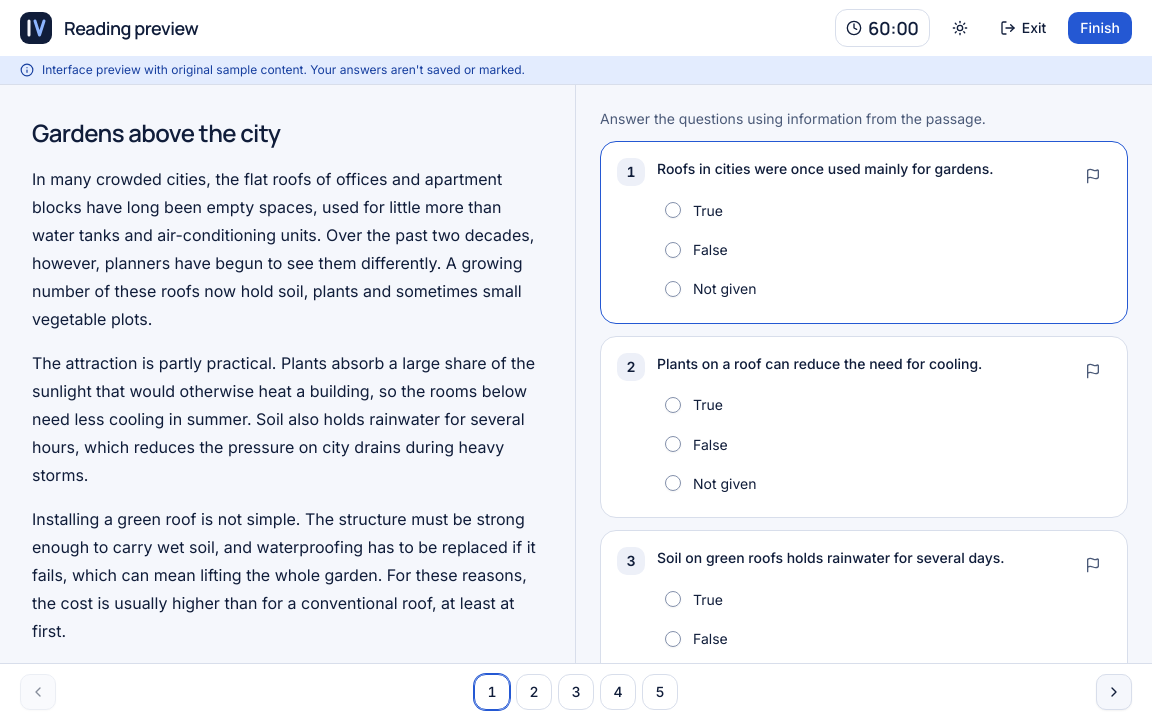
Test case: exam previews › says answers aren't saved, and finishes without any score
This screenshot has width=1152, height=720.
Expected: the text "aren't saved or marked" is shown, [42, 62, 525, 77]
Expected: the element showing "60:00" is shown, [835, 9, 930, 47]
Click the 2nd radio button named "False".
click(673, 250)  # box [665, 242, 681, 258]
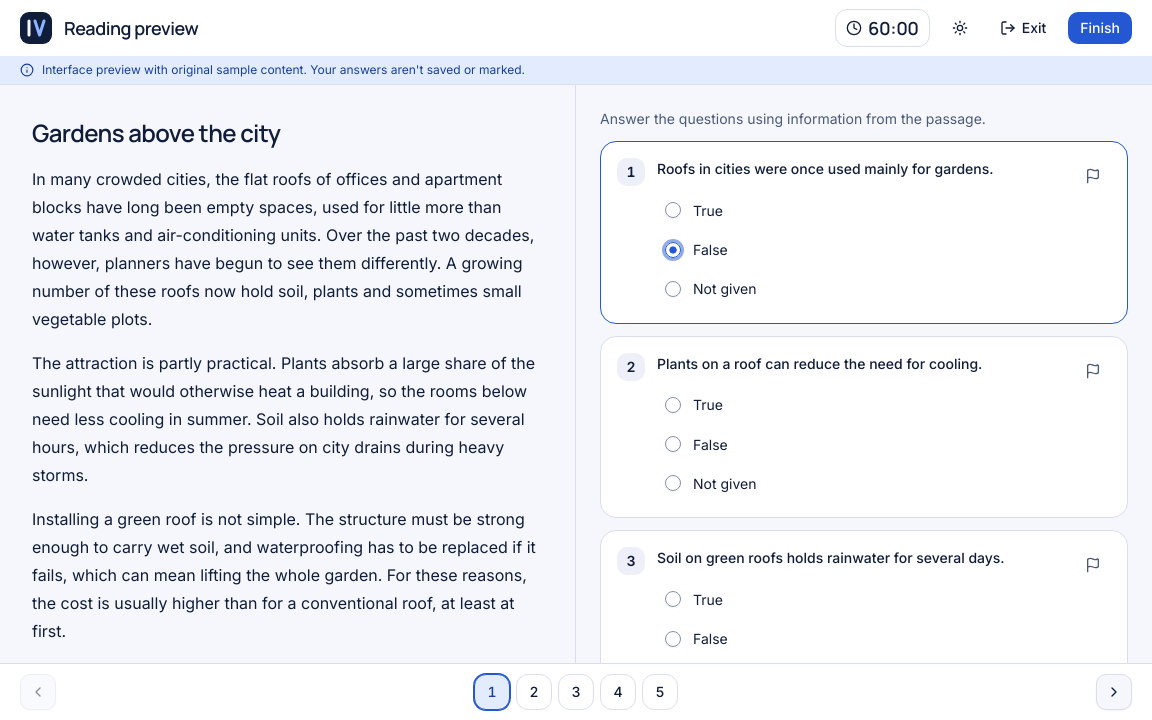
Click the button "Finish".
click(1100, 28)  # box [1068, 12, 1132, 44]
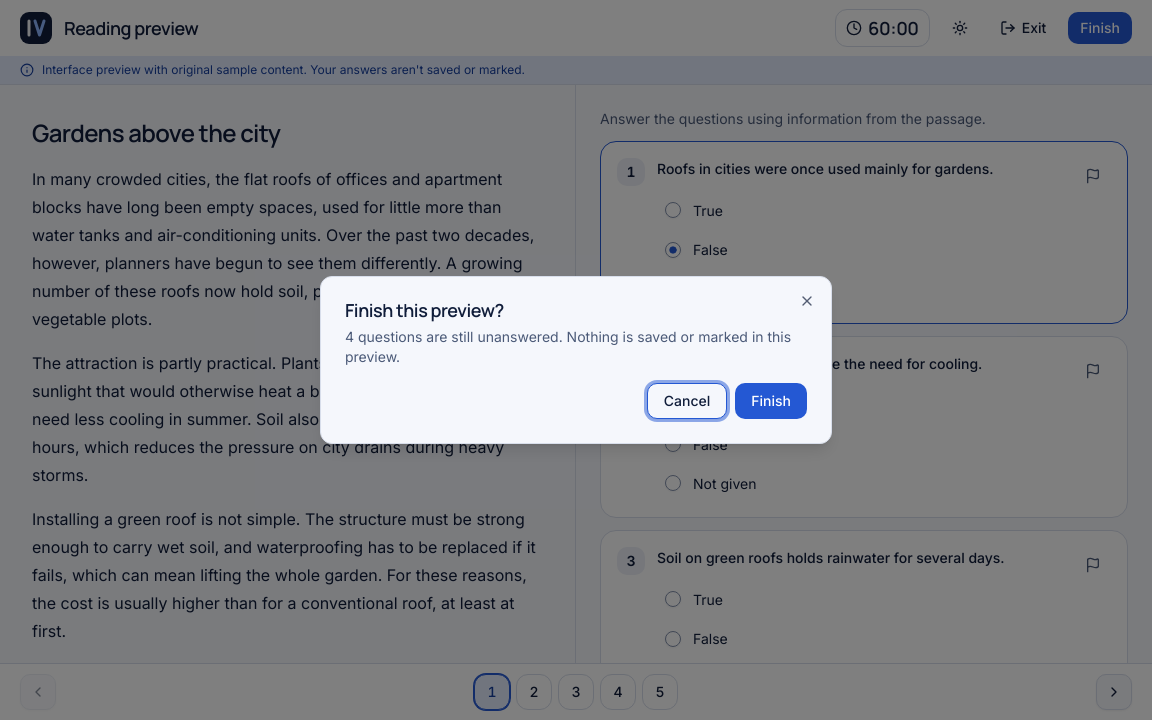
Result: the text "4 questions are still unanswered" is shown at [345, 328, 791, 365]
Click the button "Finish".
click(771, 401)  # box [735, 383, 807, 419]
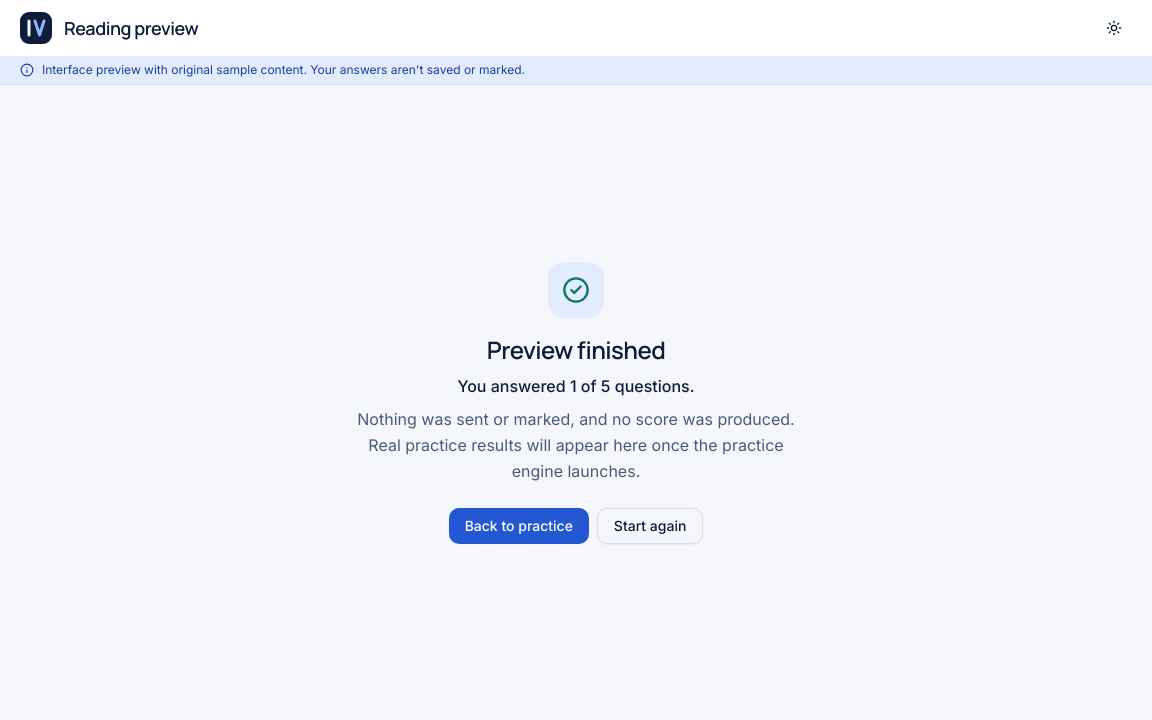
Result: the heading "Preview finished" is shown at [487, 332, 665, 366]
Result: the text "You answered 1 of 5 questions." is shown at [458, 376, 694, 396]
